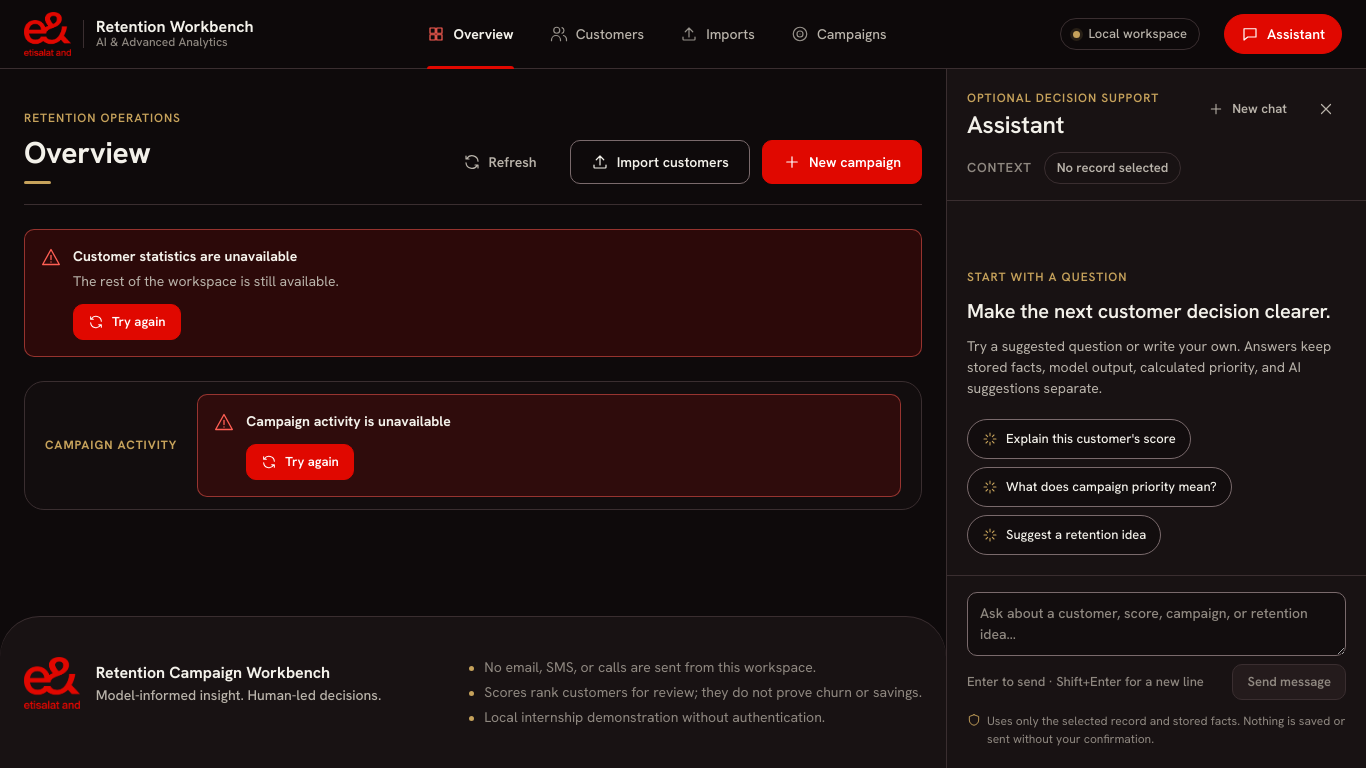
Test: chat browser journey › requires a one-time token and sends explicit confirmation headers
Expected: the heading "Assistant" is shown, [967,109,1064,140]
Expected: the button "New chat" is enabled, [1193,91,1302,127]
Type "Create this customer" into the text box named "Message the assistant" at coordinates (1156, 624), box [967,592,1346,656]
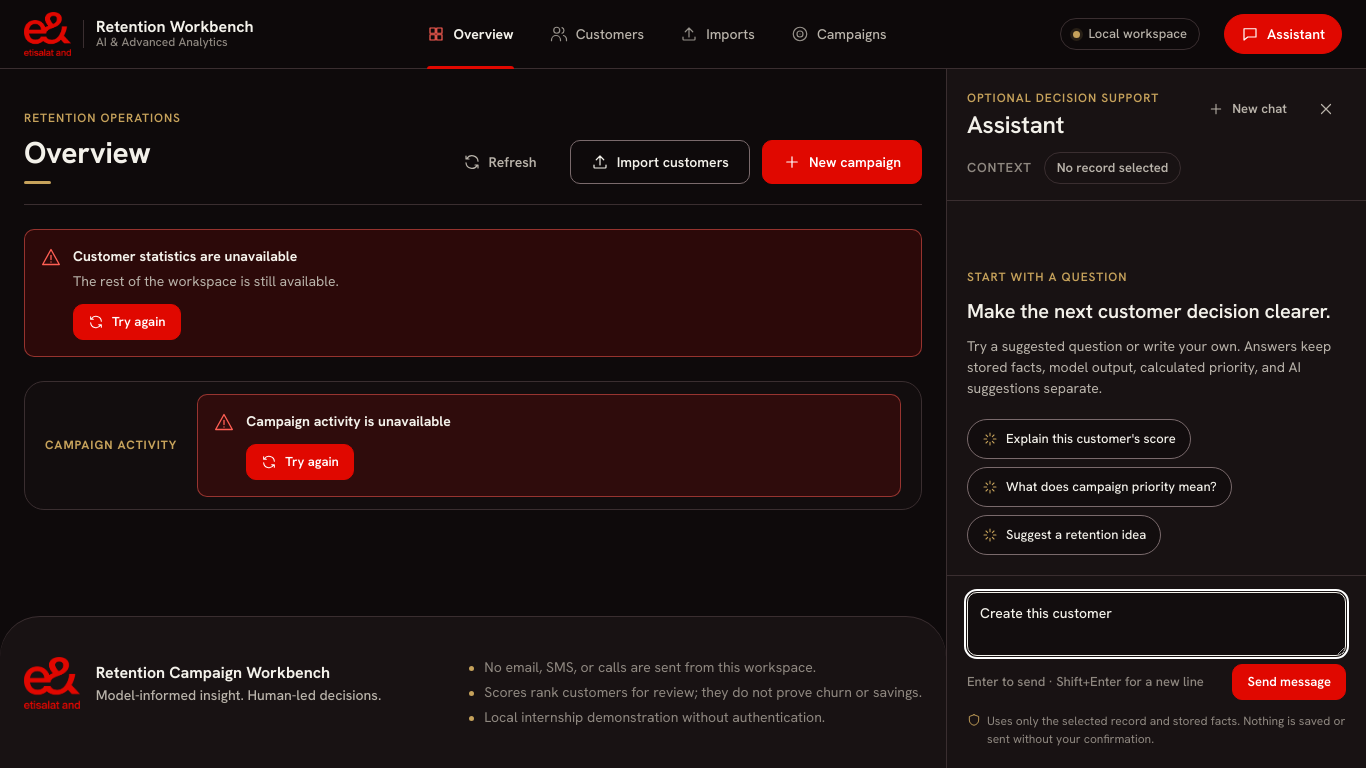
Expected: the button "Send message" is enabled
Click the button "Send message" at coordinates (1289, 682), box [1232,664,1346,700]
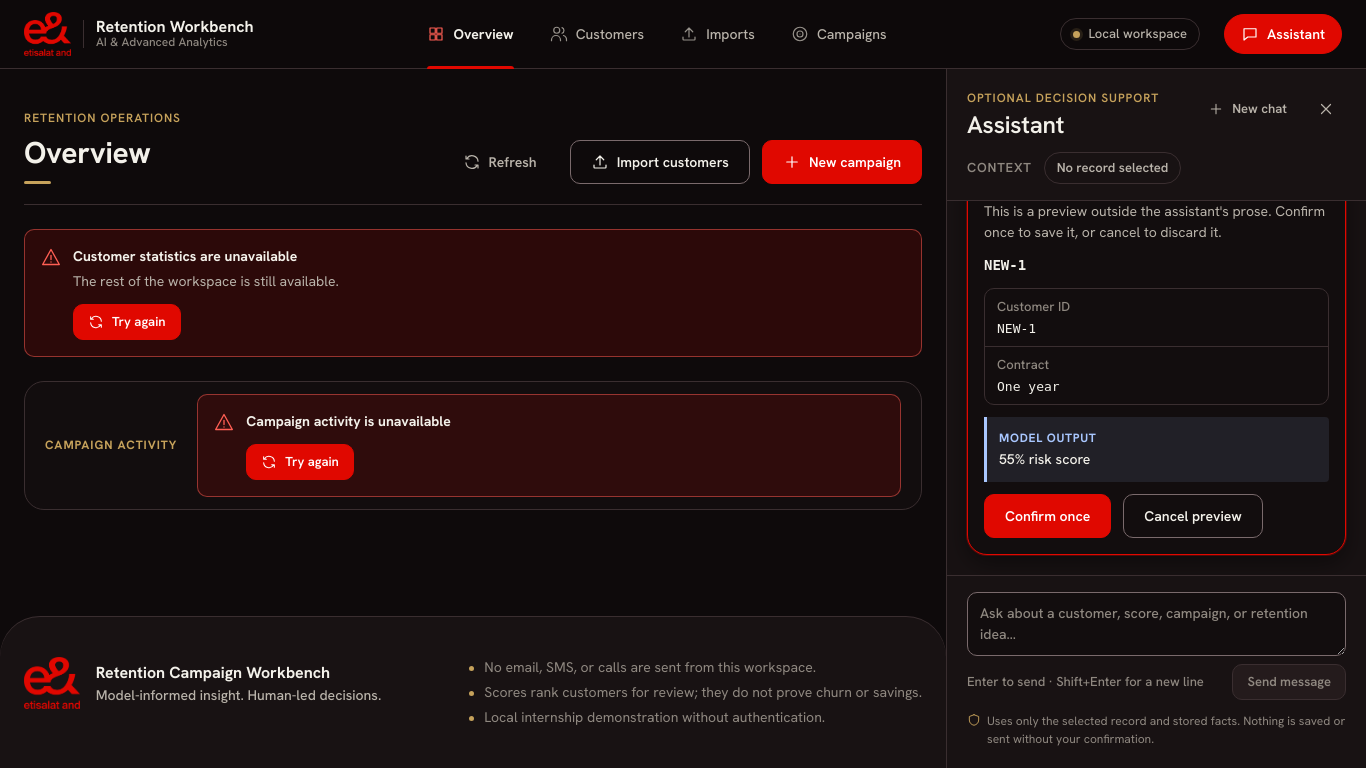
Expected: the text "Customer ID" is shown, [997,298,1070,315]
Click the button "Confirm once" at coordinates (1048, 516), box [984,494,1111,538]
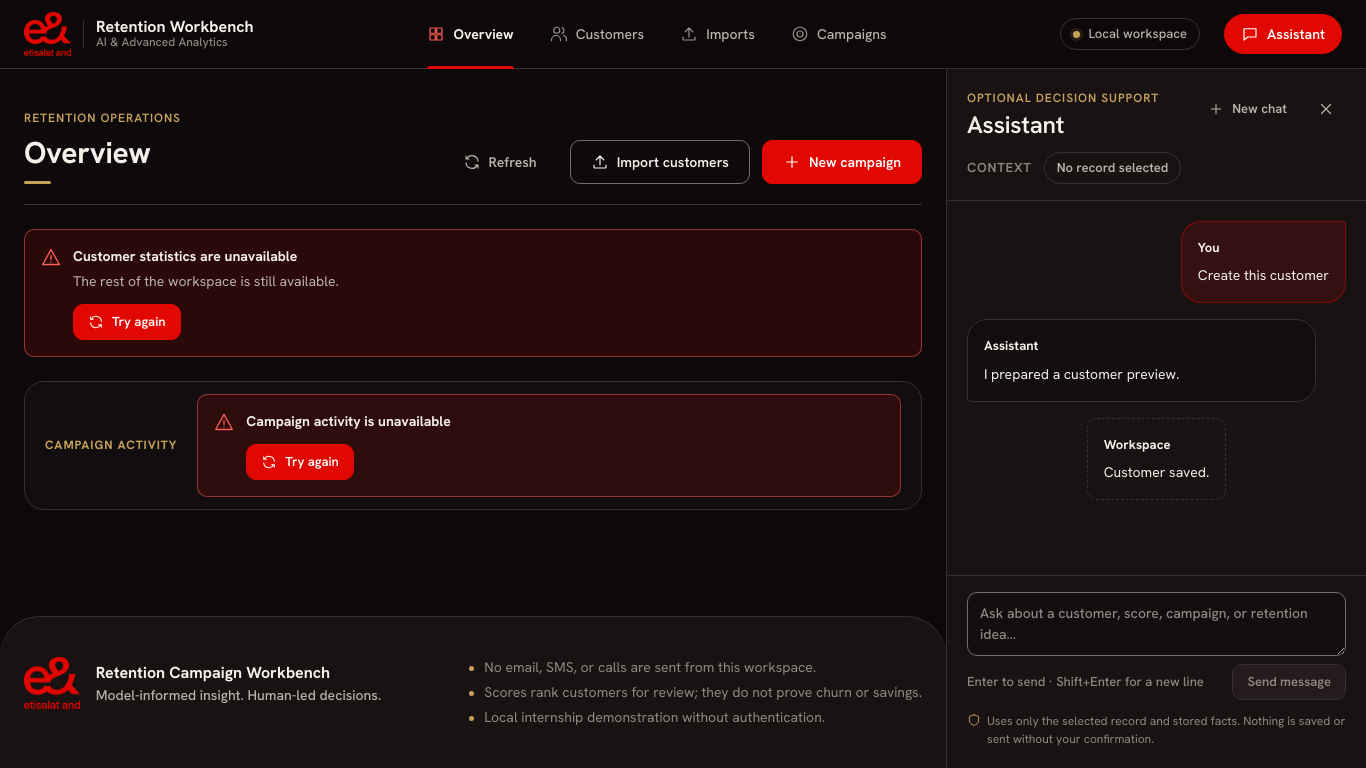
Expected: the text "Customer saved." is shown, [1104,462,1209,483]
Expected: the text "Confirm once" is gone
